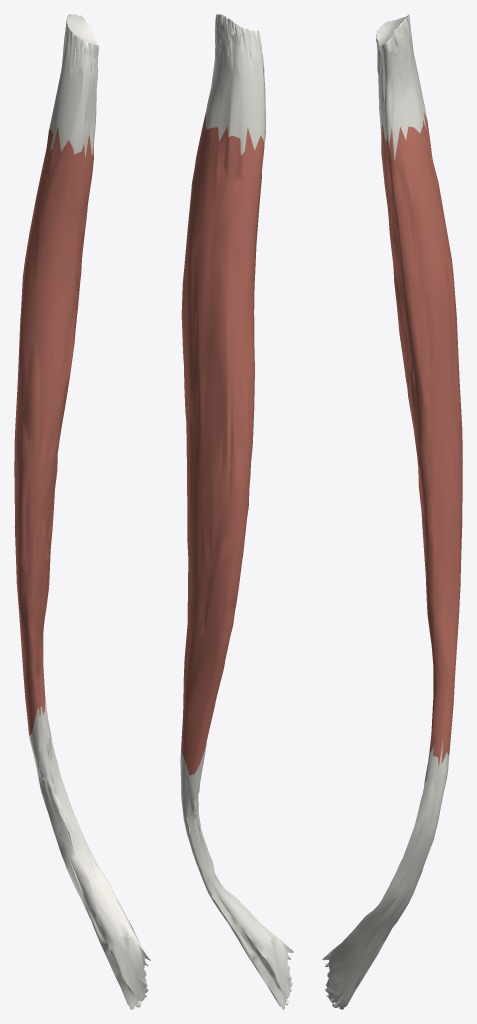
File: semi-tendineux.glb
3 views of the same model, side by side, from view 1: azimuth 90°, elevation 25°; view 2: azimuth 150°, elevation 25°; view 3: azimuth 270°, elevation 25° (orthographic). The views are drawn at different scales.
Visible parts, largest first — view 1: semi-tendineux; view 2: semi-tendineux; view 3: semi-tendineux.
Part boxes in pixels (x1,y1,x2,y2): semi-tendineux: (14, 14, 151, 1009); semi-tendineux: (180, 14, 293, 1009); semi-tendineux: (322, 14, 462, 1009).
Size of the model in its own units: 0.036 by 0.4599 by 0.0582.
